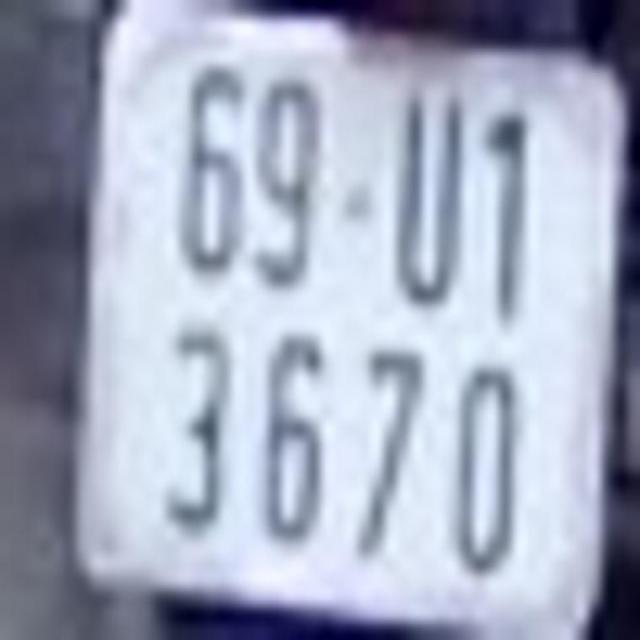0: (445, 350, 519, 572)
1: (484, 103, 536, 324)
3: (162, 321, 235, 544)
6: (175, 63, 251, 283), (263, 324, 329, 548)
7: (348, 341, 424, 562)
9: (257, 79, 320, 292)
U: (389, 98, 470, 300)
